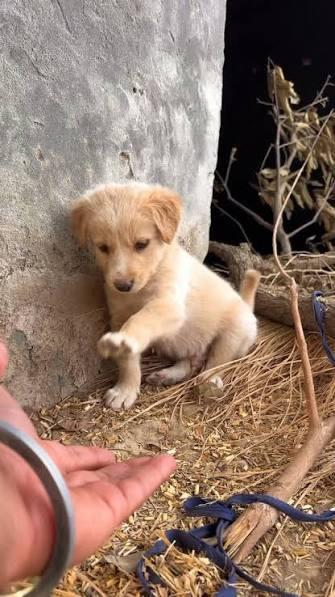puppy-dog: (66, 181, 260, 412)
